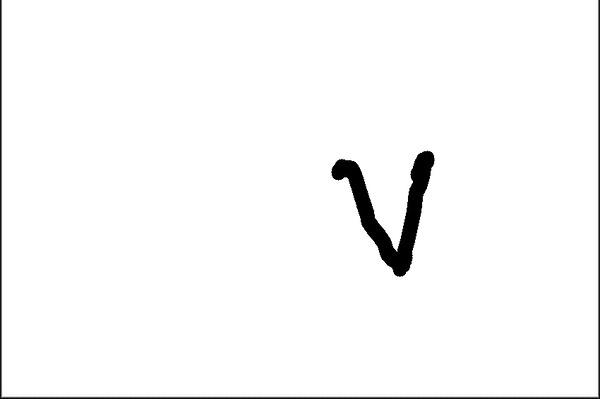V: (327, 141, 467, 295)
